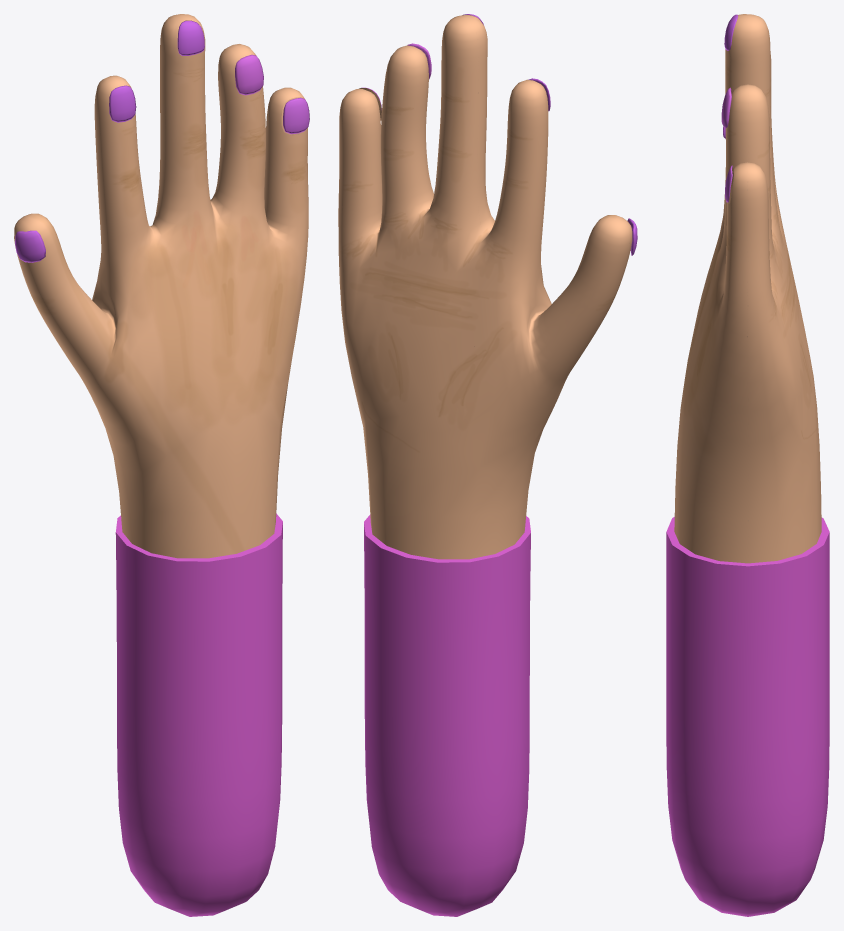
The model's file is hand3.fbx.
The picture shows the model from 3 angles, left to right: view 1: azimuth 30°, elevation 25°; view 2: azimuth 150°, elevation 25°; view 3: azimuth 270°, elevation 25°; orthographic projection.
Visible parts, largest first — view 1: Cube, Sleeve, RingNail, IndexNail, ThumbNail, SmallNail, MiddleNail; view 2: Cube, Sleeve; view 3: Sleeve, Cube.
Boxes of the visible parts, x1,y1,x2,y2 form: Cube: (14,14,308,558); Sleeve: (115,513,282,916); RingNail: (235,54,263,95); IndexNail: (109,85,136,122); ThumbNail: (15,230,45,262); SmallNail: (283,97,309,134); MiddleNail: (177,20,204,55); Cube: (338,15,632,559); Sleeve: (364,514,530,916); Sleeve: (666,517,829,916); Cube: (674,14,821,563).
Bounding box in the file's own units: 435 × 1276 × 214.
Materials: 5 (1 with a texture image).
